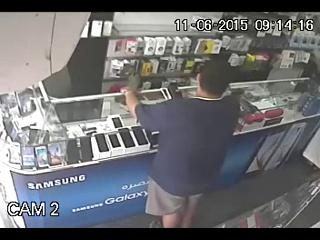Normal: (120, 58, 242, 226)
